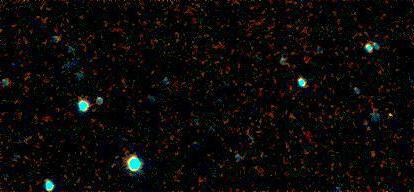star: (375, 98, 405, 128)
